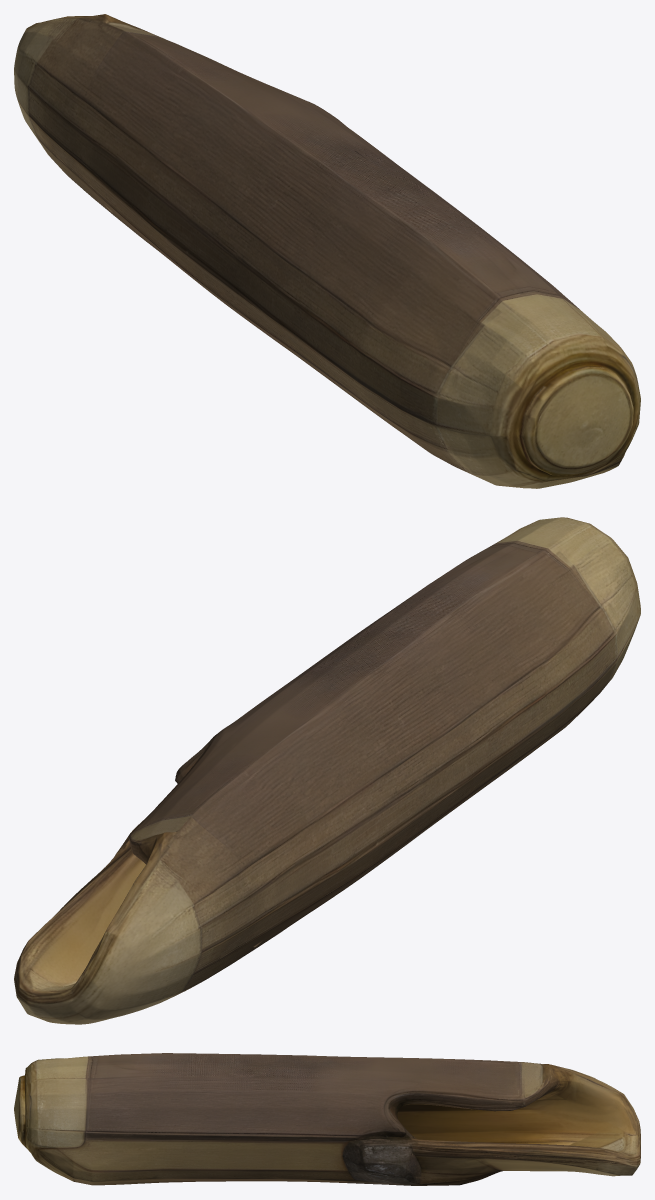
Rendered from PenSleeve.glb.
3 views of the same model, one above another, from view 1: azimuth 30°, elevation 25°; view 2: azimuth 150°, elevation 25°; view 3: azimuth 270°, elevation 25° (orthographic). The views are drawn at different scales.
Parts seen in each view (by area): view 1: node_0; view 2: node_0; view 3: node_0.
Part boxes in pixels (<box>): node_0: <box>14,14,640,488</box>; node_0: <box>14,517,640,1024</box>; node_0: <box>14,1053,640,1185</box>.
Bounding box in the file's own units: 0.2744 × 0.2368 × 1.19.
1 material, 1 textured.
